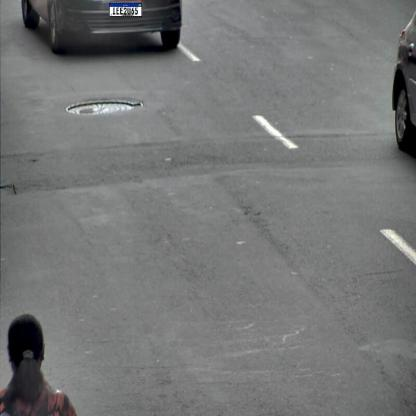PlacaM: (109, 2, 142, 16)
